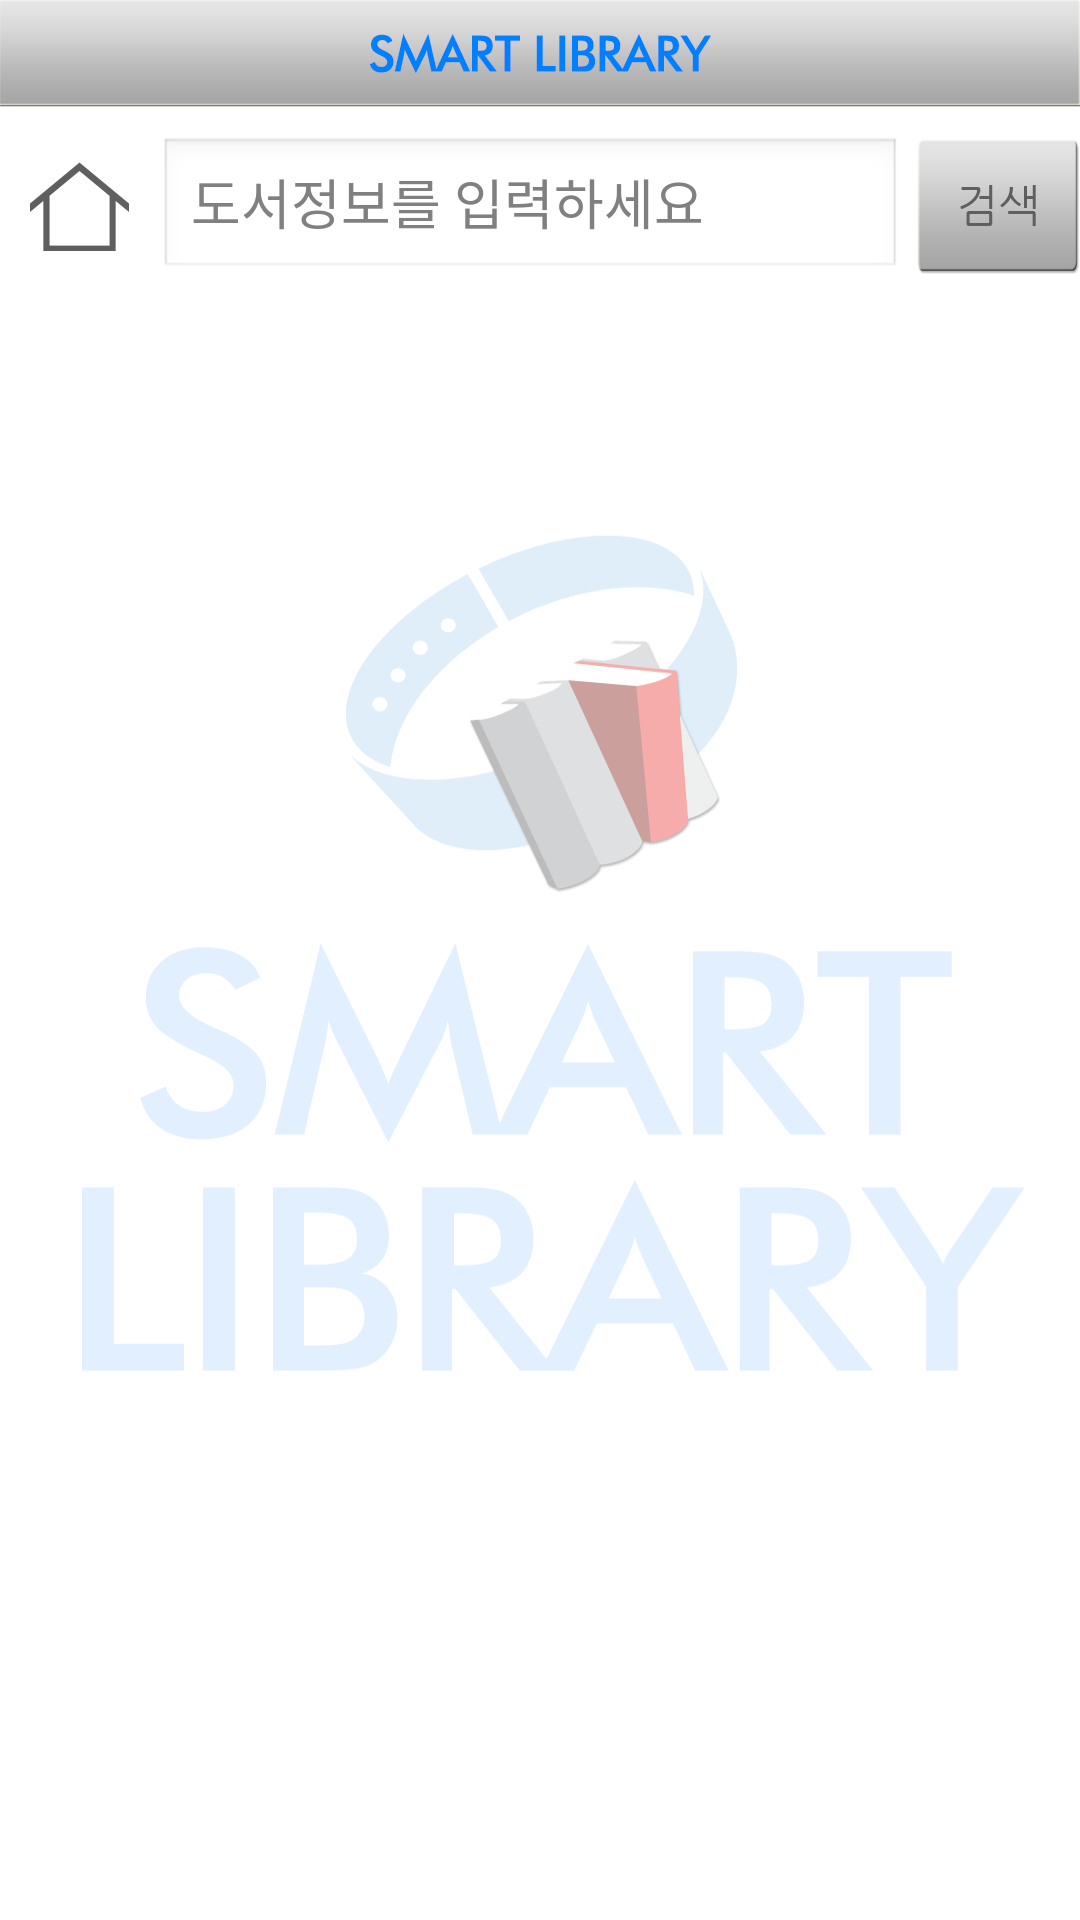

Where to tap for icons on this 1080 x 1920 app screen, as (x,y):
mainhome: (79,206)
